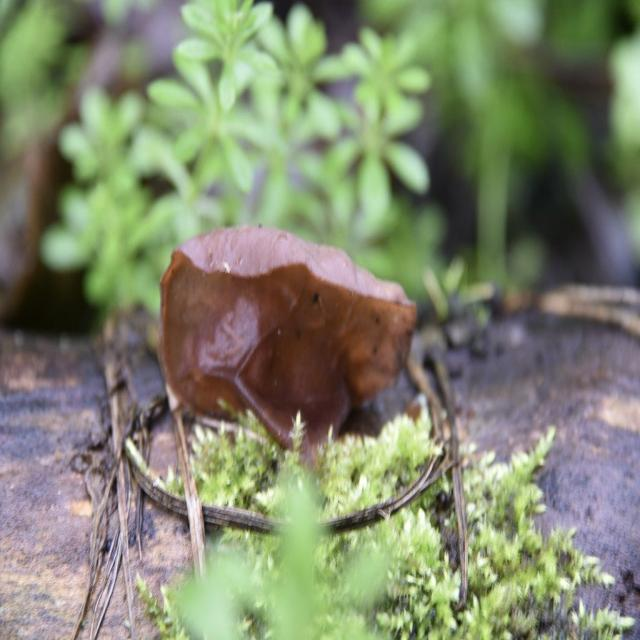Matang: (153, 217, 416, 460)
